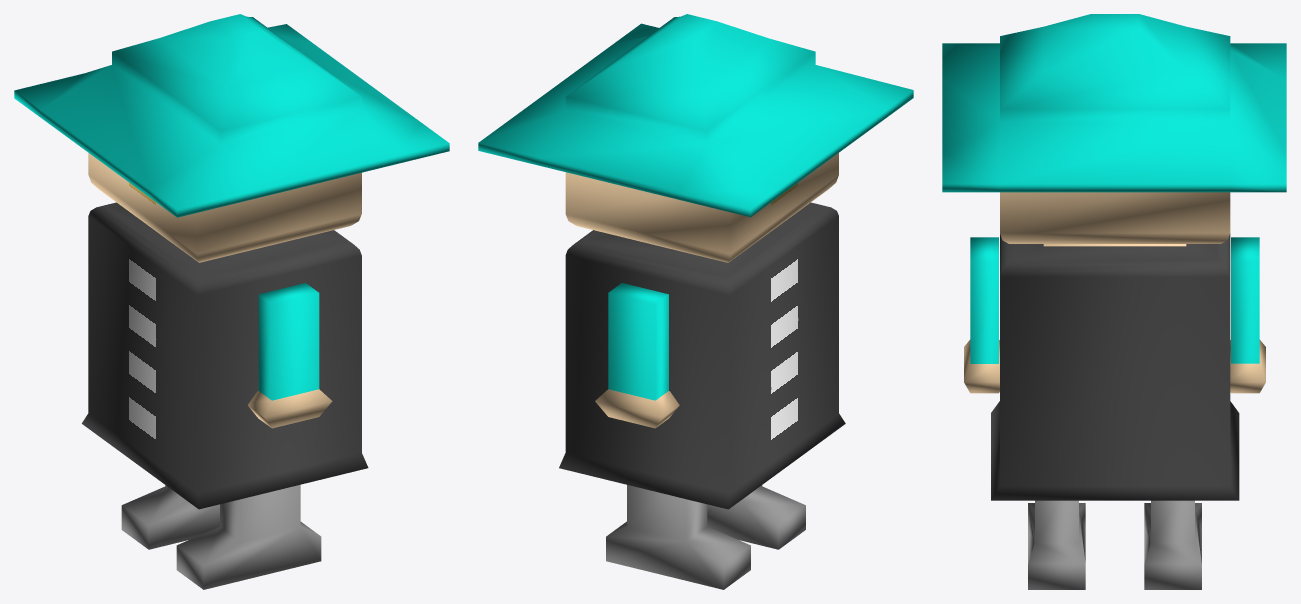
File: Player_1.fbx
3 renders of one model, left to right at view 1: azimuth 30°, elevation 25°; view 2: azimuth 150°, elevation 25°; view 3: azimuth 270°, elevation 25°, orthographic. The views are drawn at different scales.
Visible parts, largest first — view 1: Main, LeftFoot, LeftHand, RightFoot; view 2: Main, RightFoot, RightHand, LeftFoot; view 3: Main, LeftFoot, RightFoot, RightHand, LeftHand.
Boxes of the visible parts, x1,y1,x2,y2 form: Main: [14, 14, 449, 509]; LeftFoot: [176, 484, 321, 589]; LeftHand: [248, 283, 332, 428]; RightFoot: [121, 485, 219, 549]; Main: [478, 14, 913, 509]; RightFoot: [606, 485, 750, 589]; RightHand: [595, 283, 679, 428]; LeftFoot: [707, 485, 805, 549]; Main: [942, 14, 1286, 500]; LeftFoot: [1028, 500, 1085, 589]; RightFoot: [1144, 500, 1201, 589]; RightHand: [1230, 237, 1265, 393]; LeftHand: [964, 237, 999, 393].
Bounding box in the file's own units: 0.1156 × 0.1198 × 0.2093.
